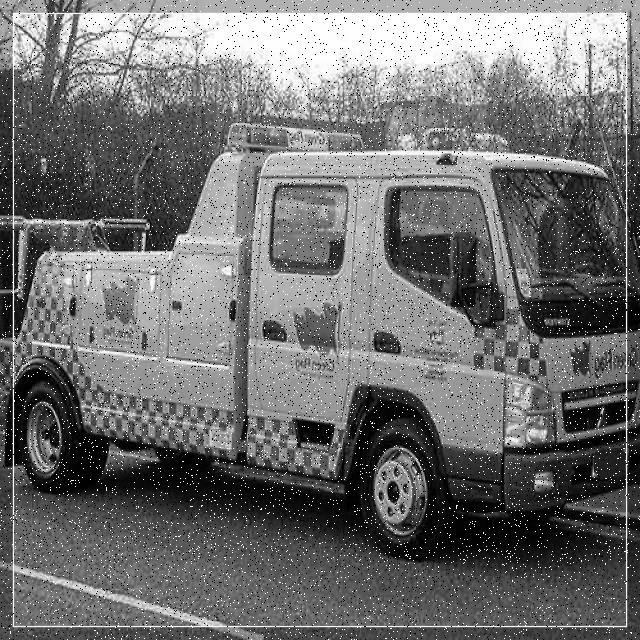Tow Truck: (0, 123, 640, 562)
